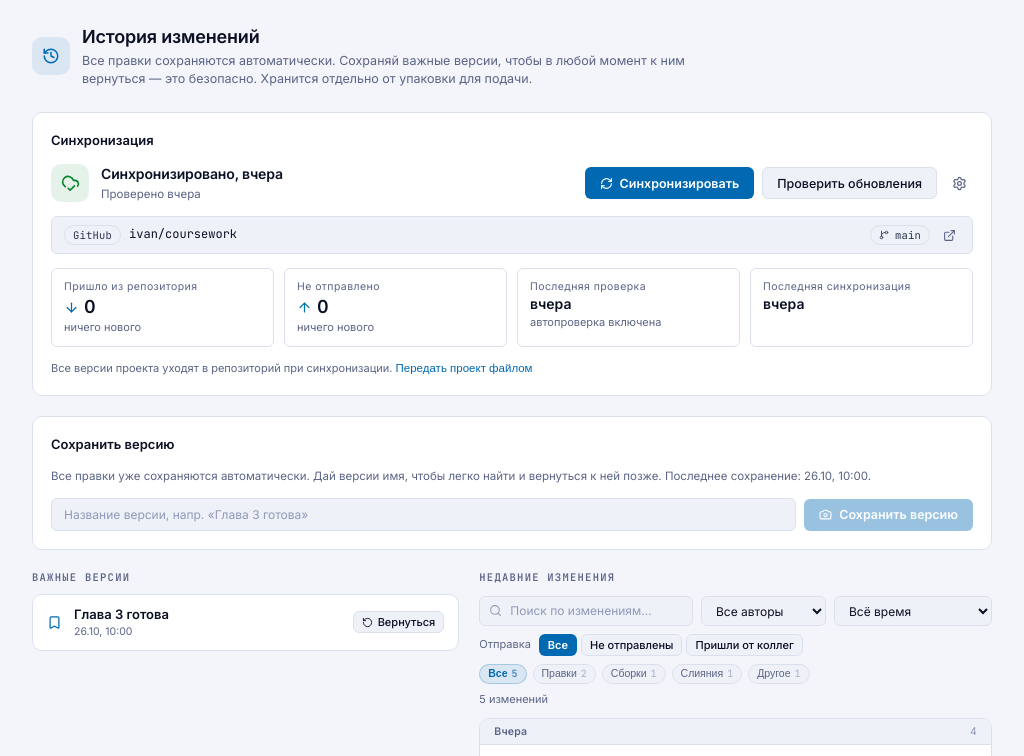
Test: VersionsView › tells that nothing matches when the server returns no rows for the filters
The image size is (1024, 756).
Expected: the text "Глава 3 готова" is shown, [74,606,169,622]
Type "нет такого" into the search field labelled "Поиск по изменениям" at (586, 611), box [479,596,693,626]
(page scrolled)
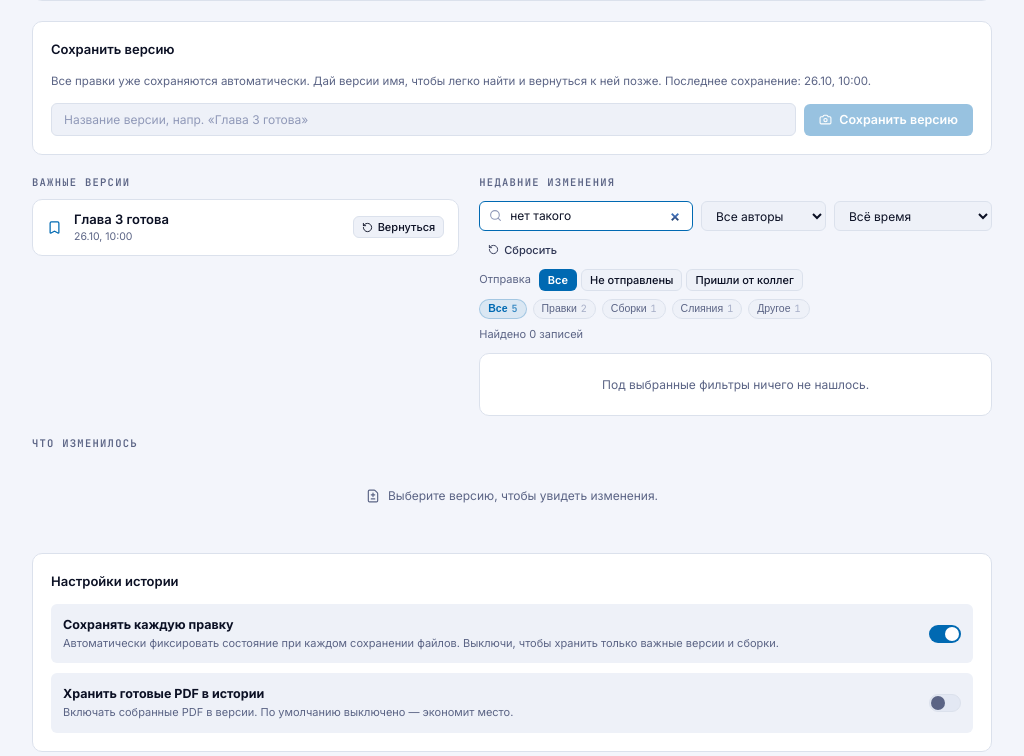
Result: the text "Под выбранные фильтры ничего не нашлось." is shown at [479,352,992,416]
